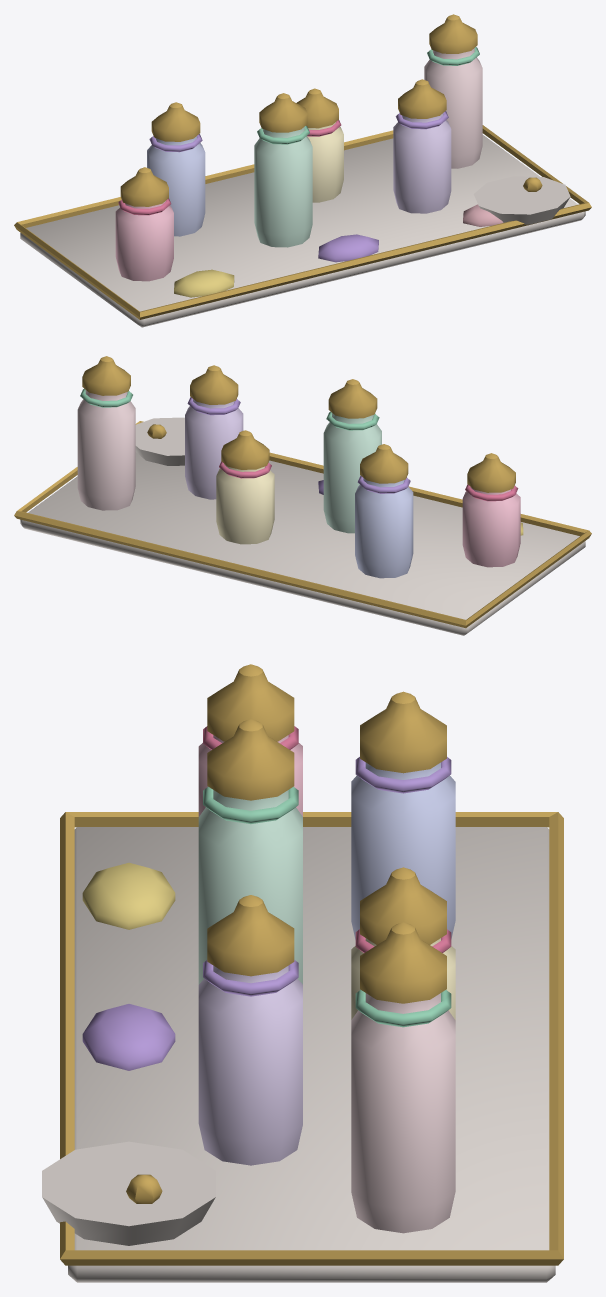
File: pigment_jars.glb
3 renders of one model, top to bottom at view 1: azimuth 30°, elevation 25°; view 2: azimuth 150°, elevation 25°; view 3: azimuth 270°, elevation 25°, orthographic. The views are drawn at different scales.
Visible parts, largest first — view 1: pigment_jars; view 2: pigment_jars; view 3: pigment_jars.
Part boxes in pixels (x1,y1,x2,y2): pigment_jars: (14, 14, 591, 327); pigment_jars: (14, 356, 591, 635); pigment_jars: (42, 664, 563, 1282).
Size of what is drawn, in the model's own units: 0.6 by 0.2 by 0.3.
